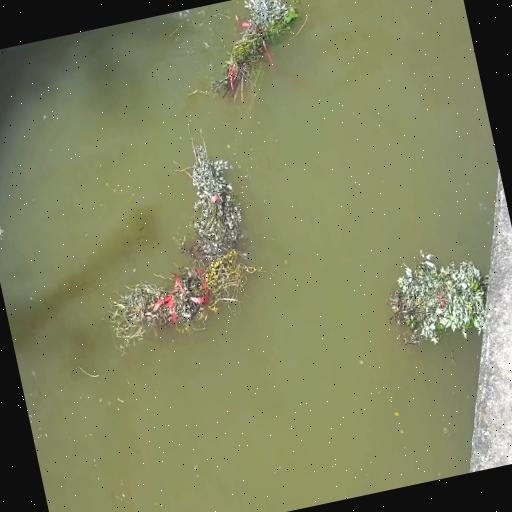twig: (102, 242, 266, 348), (376, 238, 496, 354), (194, 0, 312, 107), (166, 120, 250, 262)
